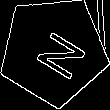N_NW: (22, 21, 84, 81)
